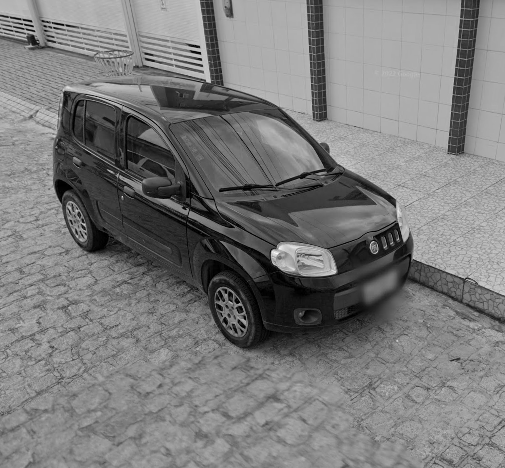car: (51, 70, 418, 351)
